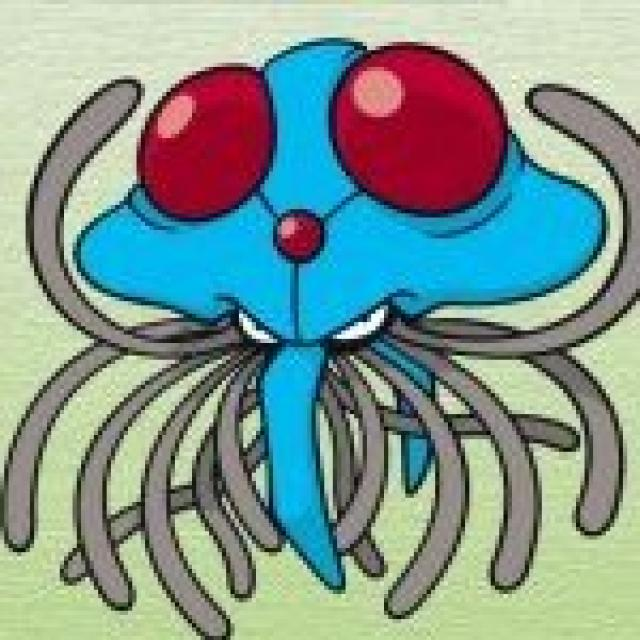Tentacruel: (94, 39, 577, 570)
